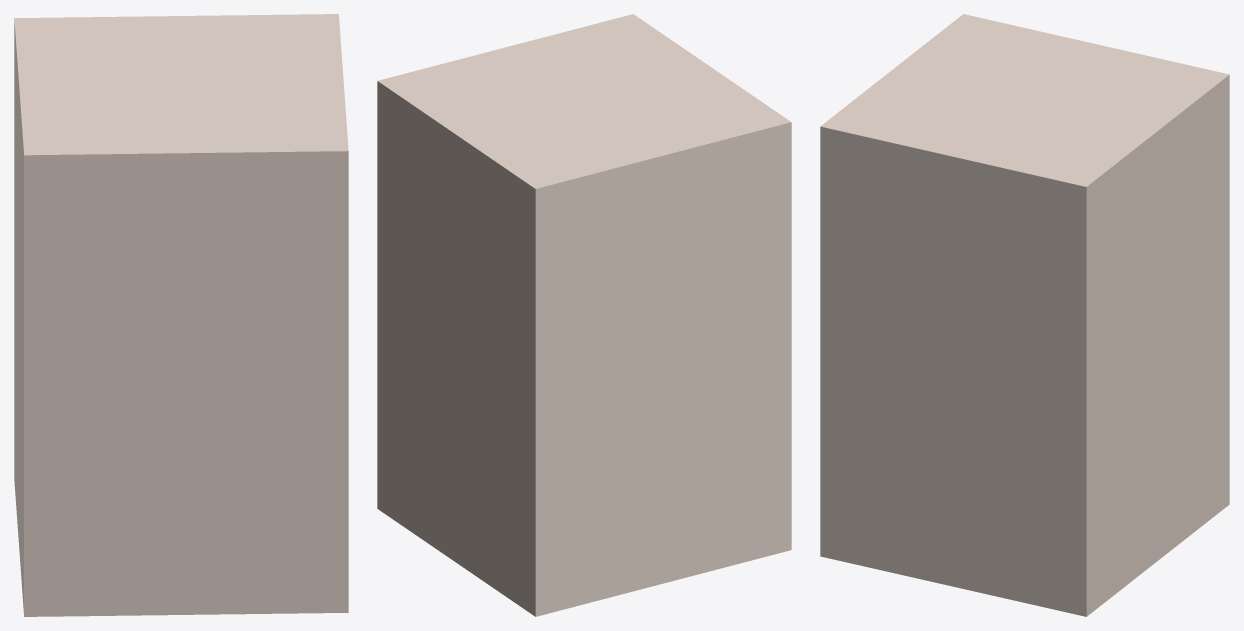
Rendered from Garage_Bottle3.fbx.
The picture shows the model from 3 angles, left to right: view 1: azimuth 30°, elevation 25°; view 2: azimuth 150°, elevation 25°; view 3: azimuth 270°, elevation 25°; orthographic projection. The views are drawn at different scales.
Visible parts, largest first — view 1: Garage_Bottle3; view 2: Garage_Bottle3; view 3: Garage_Bottle3.
Boxes of the visible parts, left/top/right/bottom form: Garage_Bottle3: left=14, top=14, right=348, bottom=616; Garage_Bottle3: left=377, top=14, right=791, bottom=616; Garage_Bottle3: left=820, top=14, right=1229, bottom=616.
Size of the model in its own units: 16.54 by 19.17 by 16.54.
